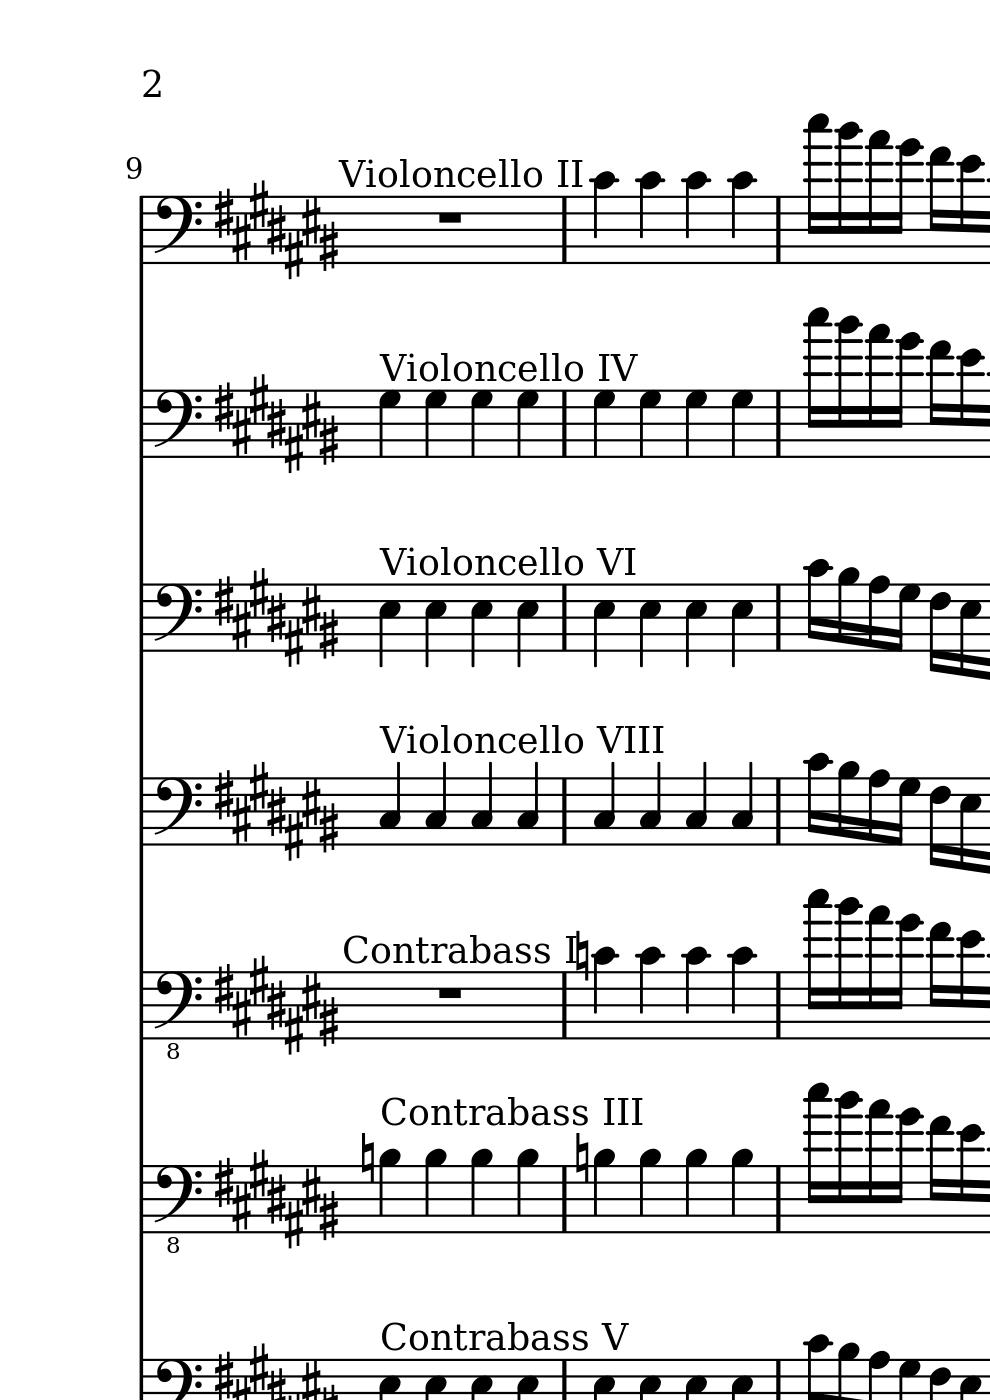16_10: (802, 751, 831, 849), (802, 558, 831, 653)
16_12: (956, 931, 986, 1042), (957, 1121, 986, 1236), (956, 154, 985, 267), (957, 350, 985, 460)
16_13: (926, 146, 952, 265), (927, 340, 952, 458), (927, 923, 952, 1042), (927, 1117, 952, 1236)
16_14: (891, 139, 922, 266), (891, 333, 922, 460), (892, 913, 922, 1041), (892, 1107, 922, 1234)
16_15: (864, 129, 892, 264), (862, 325, 891, 458), (864, 905, 891, 1039), (864, 1099, 891, 1233)
16_16: (835, 119, 864, 266), (832, 316, 861, 458), (835, 895, 862, 1041), (834, 1090, 861, 1235)
16_17: (802, 112, 832, 266), (802, 889, 832, 1042), (804, 1082, 832, 1235), (802, 306, 831, 457)
16_5: (958, 582, 982, 681), (958, 776, 982, 875)
16_6: (927, 582, 951, 674), (927, 776, 951, 867)
16_7: (891, 776, 921, 847), (891, 583, 921, 653)
16_8: (865, 768, 890, 848), (865, 575, 889, 654)
16_9: (834, 761, 859, 848), (835, 564, 859, 654)
2: (139, 67, 162, 97)
4_10: (635, 945, 666, 1042), (635, 171, 666, 267), (681, 945, 711, 1042), (589, 170, 619, 267), (681, 170, 711, 267), (590, 945, 619, 1043), (727, 945, 756, 1043), (727, 170, 756, 268)
4_3: (682, 761, 708, 846), (729, 761, 754, 846), (469, 761, 494, 847), (377, 761, 402, 846), (637, 761, 662, 846), (515, 761, 539, 847), (592, 761, 616, 847), (423, 761, 447, 846)
4_5: (682, 583, 708, 669), (729, 583, 754, 669), (376, 583, 401, 671), (422, 583, 447, 671), (468, 583, 493, 671), (637, 583, 662, 671), (514, 583, 539, 669), (591, 583, 615, 671)
4_7: (376, 389, 402, 460), (682, 389, 708, 460), (727, 389, 753, 460), (423, 389, 448, 460), (468, 389, 493, 460), (514, 389, 539, 460), (591, 389, 616, 460), (637, 389, 662, 460)
4_9: (468, 1147, 494, 1235), (727, 1147, 753, 1235), (422, 1148, 448, 1235), (682, 1148, 708, 1234), (376, 1147, 401, 1235), (514, 1147, 539, 1235), (637, 1148, 662, 1235), (591, 1148, 615, 1235)
6: (125, 153, 142, 181)
C_S: (214, 761, 343, 864), (210, 568, 340, 669), (211, 179, 339, 279), (212, 374, 340, 473), (215, 954, 340, 1054), (212, 1150, 339, 1247)
Fclef: (150, 194, 202, 267), (151, 776, 202, 849), (151, 388, 202, 461), (151, 582, 202, 654)
Lower_Fclef: (151, 969, 202, 1062), (153, 1161, 202, 1256)
Natural: (569, 929, 589, 983), (359, 1131, 375, 1185), (573, 1132, 589, 1184)
Rests1: (434, 207, 465, 227), (434, 983, 466, 1002)
Single_barline: (769, 391, 787, 458), (769, 585, 787, 652), (769, 778, 787, 845), (769, 972, 787, 1039), (769, 1166, 787, 1233), (134, 390, 151, 460), (134, 584, 151, 653), (134, 778, 151, 847), (555, 198, 573, 264), (769, 198, 787, 264), (555, 1166, 573, 1232), (134, 972, 151, 1040), (134, 197, 151, 265), (134, 1166, 151, 1234), (556, 391, 573, 456), (556, 972, 572, 1039), (556, 585, 572, 651), (556, 779, 572, 844)
